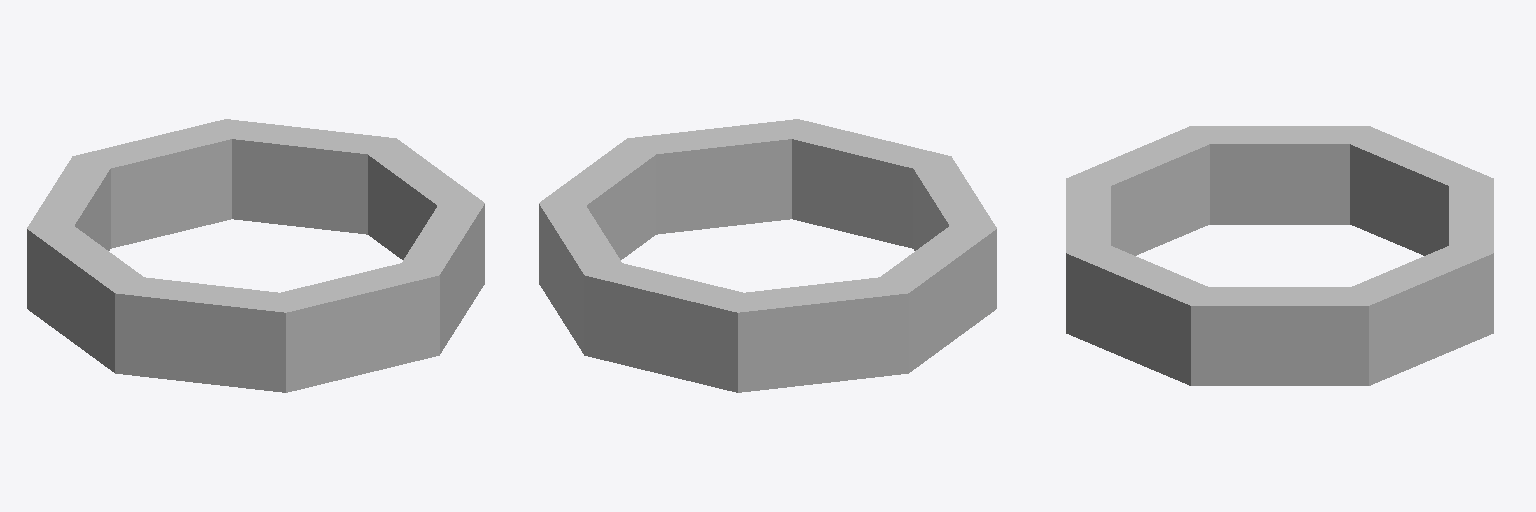
Rendered from hexagon.obj.
3 renders of one model, left to right at view 1: azimuth 30°, elevation 25°; view 2: azimuth 150°, elevation 25°; view 3: azimuth 270°, elevation 25°, orthographic.
Parts seen in each view (by area): view 1: Mtb1; view 2: Mtb1; view 3: Mtb1.
Boxes of the visible parts, box(x1,y1,x2,y2) form: Mtb1: box(27, 119, 484, 392); Mtb1: box(539, 119, 996, 392); Mtb1: box(1066, 126, 1493, 385).
Size of the model in its own units: 0.9564 by 0.1982 by 0.9568.